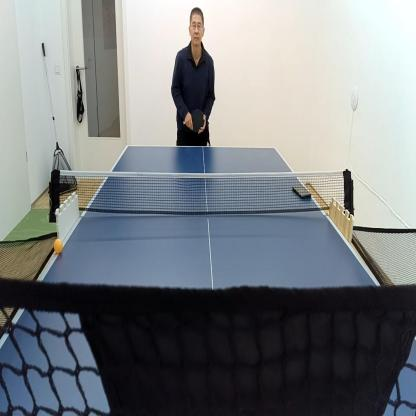Ball: (54, 238, 63, 254)
